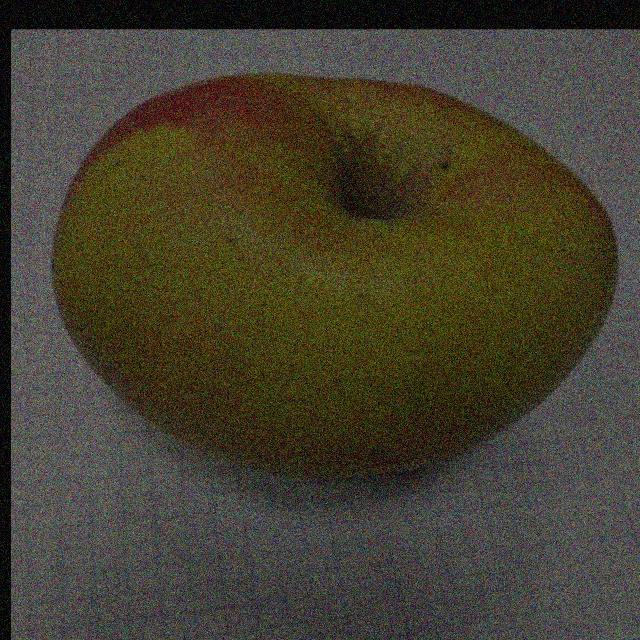green apple: (43, 71, 604, 498)
